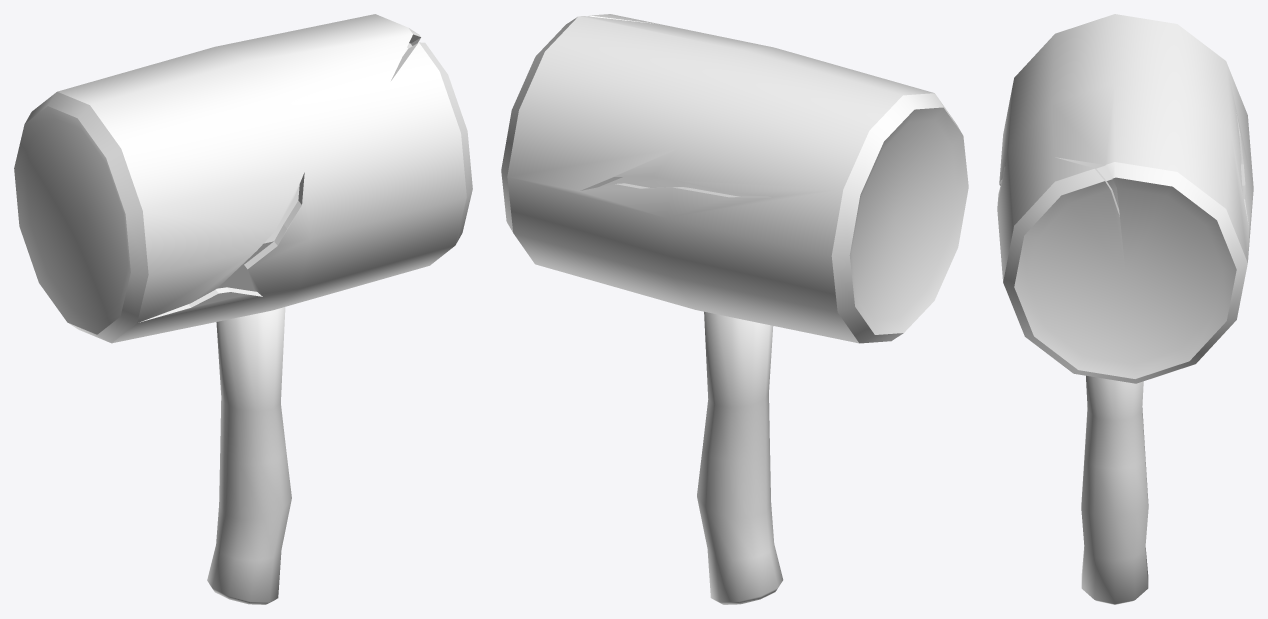
The model's file is Hammer.FBX.
The picture shows the model from 3 angles, left to right: view 1: azimuth 30°, elevation 25°; view 2: azimuth 150°, elevation 25°; view 3: azimuth 270°, elevation 25°; orthographic projection. The views are drawn at different scales.
Parts seen in each view (by area): view 1: Hammer; view 2: Hammer; view 3: Hammer.
Boxes of the visible parts, x1,y1,x2,y2 form: Hammer: (14,14,472,604); Hammer: (501,14,968,604); Hammer: (997,14,1253,604).
Size of the model in its own units: 0.6763 by 1.02 by 0.4612.
